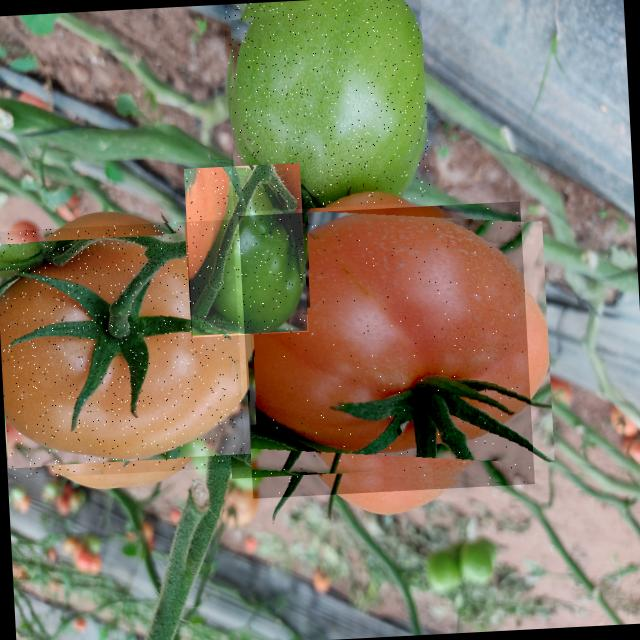Ripe Tomato: (238, 202, 534, 498), (0, 219, 246, 479)
Unripe Tomato: (223, 0, 431, 212), (184, 163, 308, 338)
